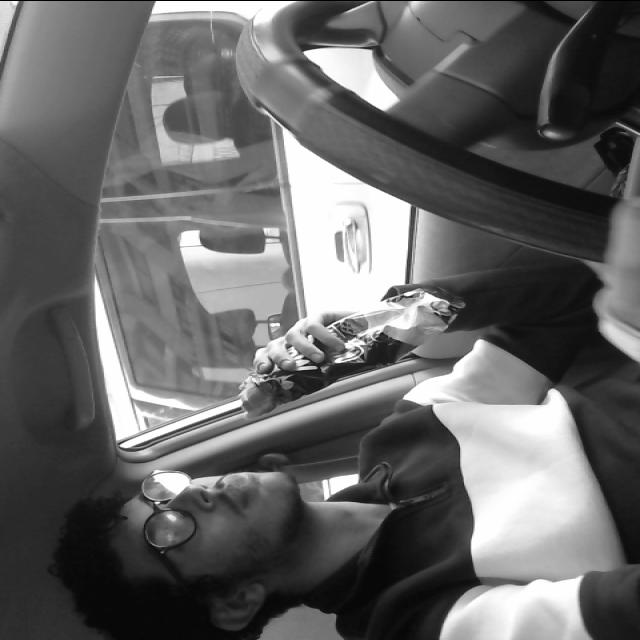eating: (231, 275, 491, 427)
